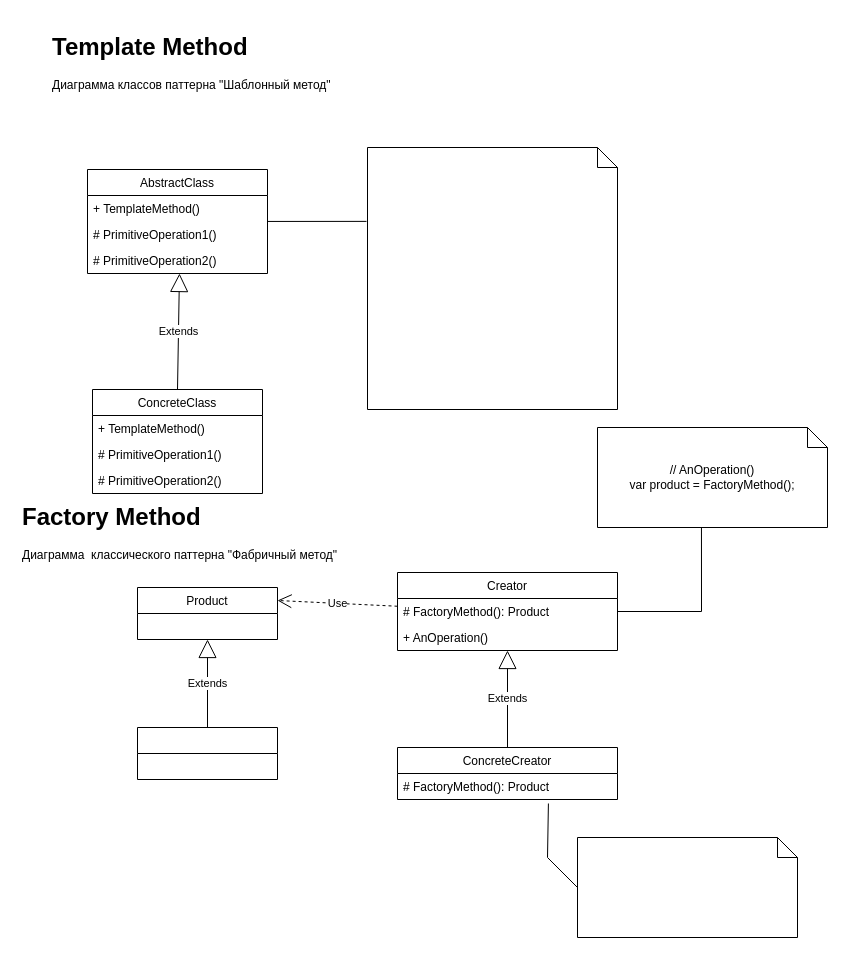
Image size: 845x955. Some labels were removed from this diagram. The centre of each missing label's shape, as x and y in pixels:
"ConcreteProduct" goes at [207,753].
"return new ConcreteProduct();" goes at [687,887].
"TemplateMethod() { PrimitiveOperation1(); ...... PrimitiveOperation2(); }" goes at [492,278].
